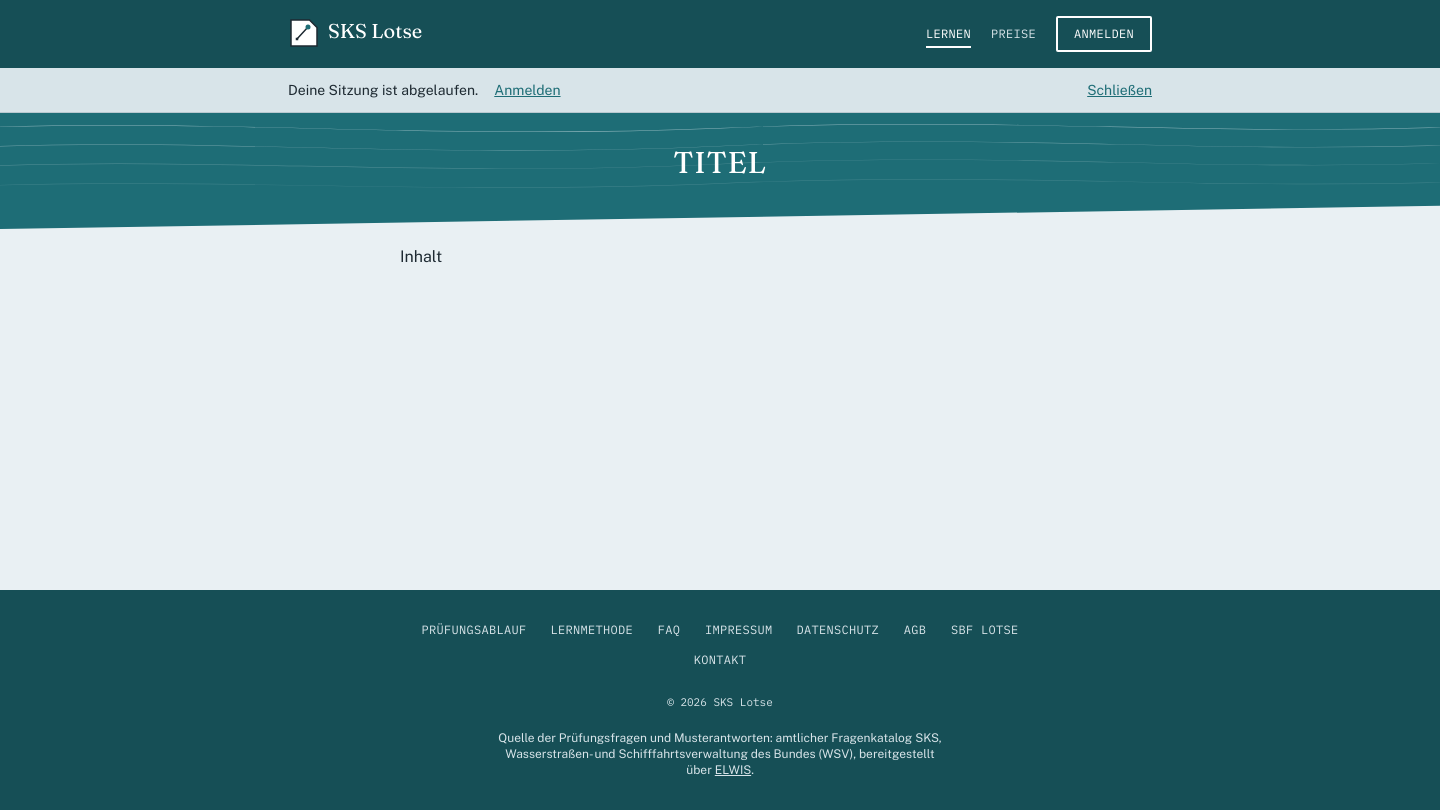
Test: PageLayout › says when the session expired, with the way back to the login, until it is closed
Expected: the message shows "Deine Sitzung ist abgelaufen.", x1=288 y1=82 x2=478 y2=98
Click the button "Schließen" at (1120, 90), box x1=1087 y1=80 x2=1152 y2=100
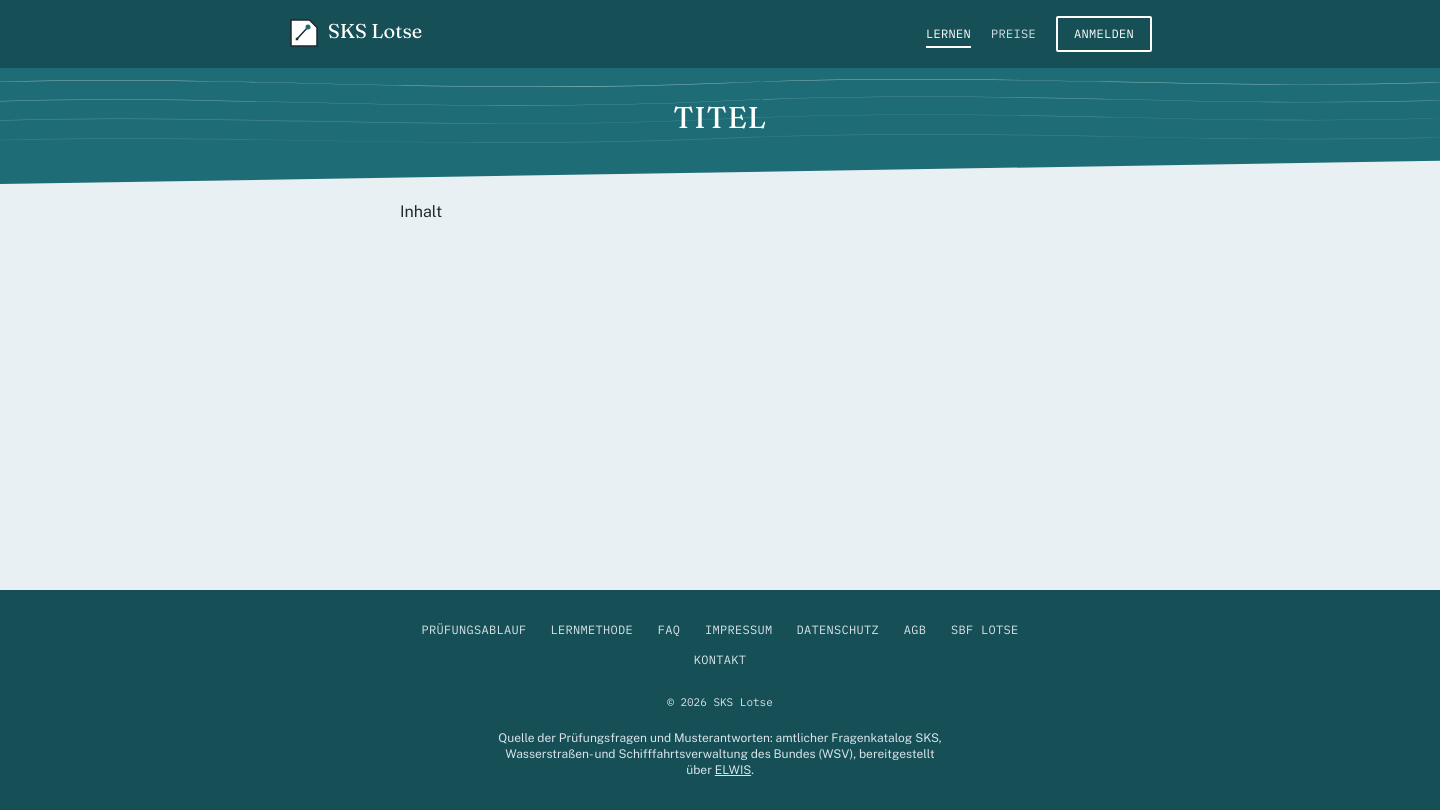
Expected: the text "Deine Sitzung ist abgelaufen." is gone
